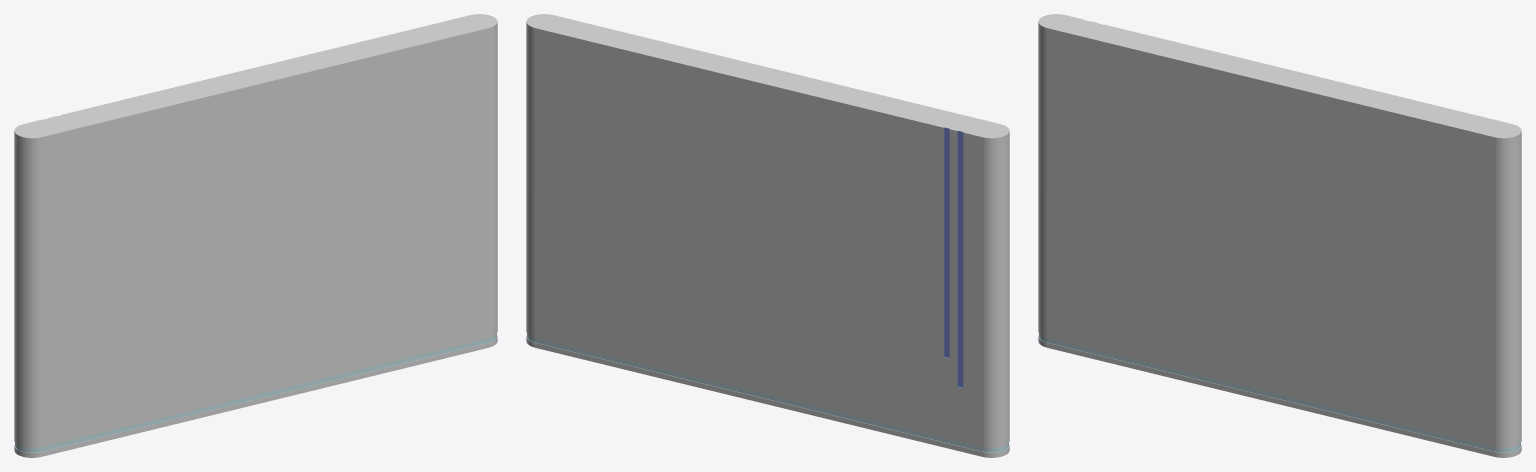
3 renders of one model, left to right at view 1: azimuth 30°, elevation 25°; view 2: azimuth 150°, elevation 25°; view 3: azimuth 330°, elevation 25°, orthographic.
Parts seen in each view (by area): view 1: pCube9; view 2: pCube9; view 3: pCube9.
Boxes of the visible parts, x1,y1,x2,y2 form: pCube9: [14, 14, 497, 457]; pCube9: [526, 14, 1009, 457]; pCube9: [1038, 14, 1521, 457].
Bounding box in the file's own units: 26.37 × 16.84 × 1.71.
